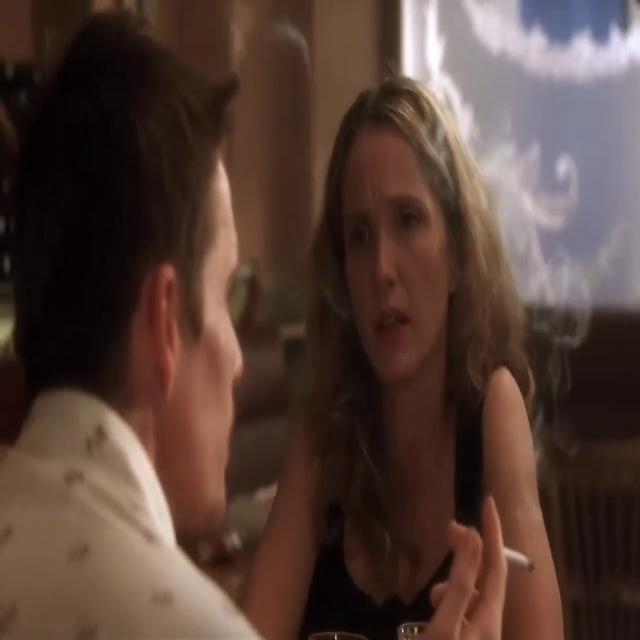Smooking: (496, 538, 539, 579)
